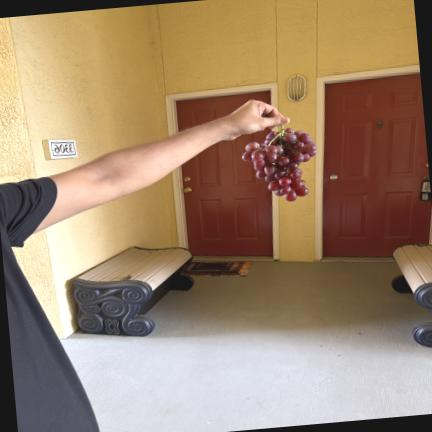grape_cluster: (242, 125, 317, 202)
